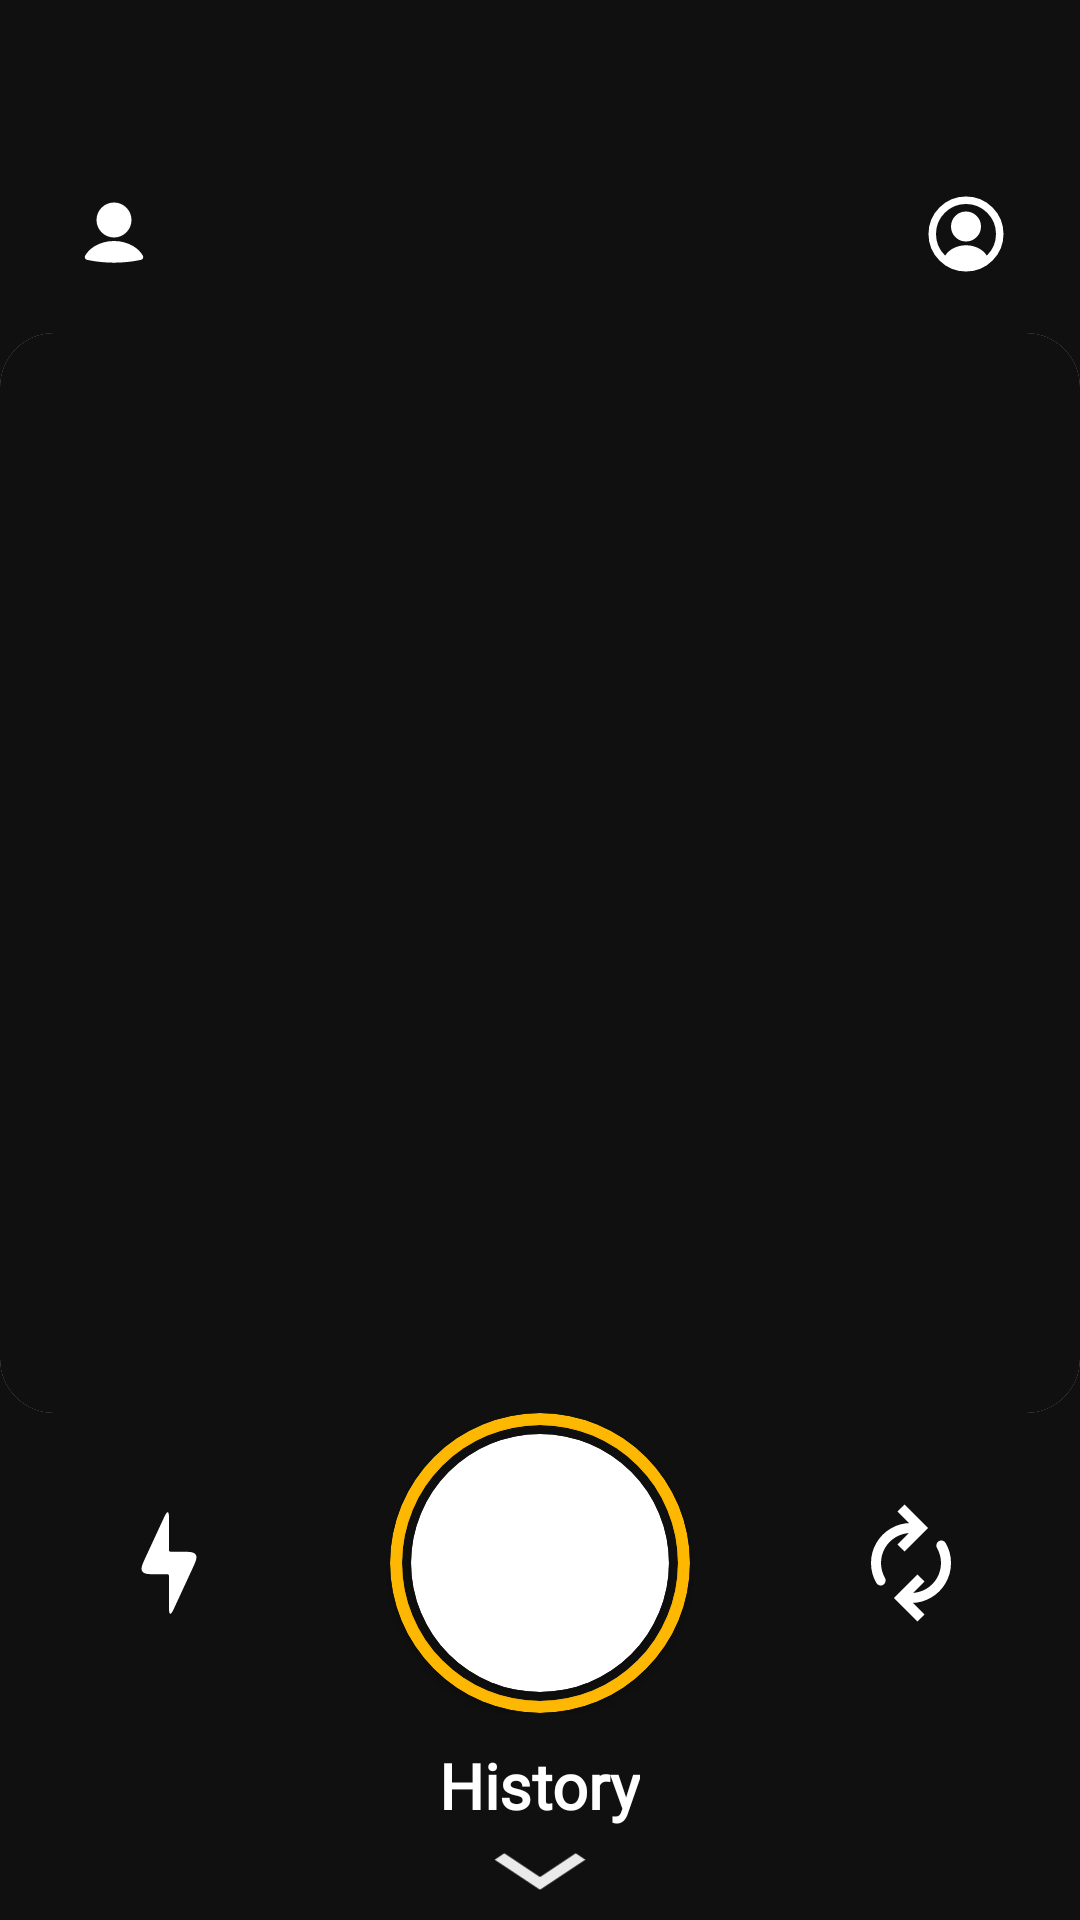

Icons on this 1080w x 1920h Android screen, each with the point to tap as [x,y]:
flip camera: [911,1563]
friend nav: [114,232]
profile nav: [966,234]
